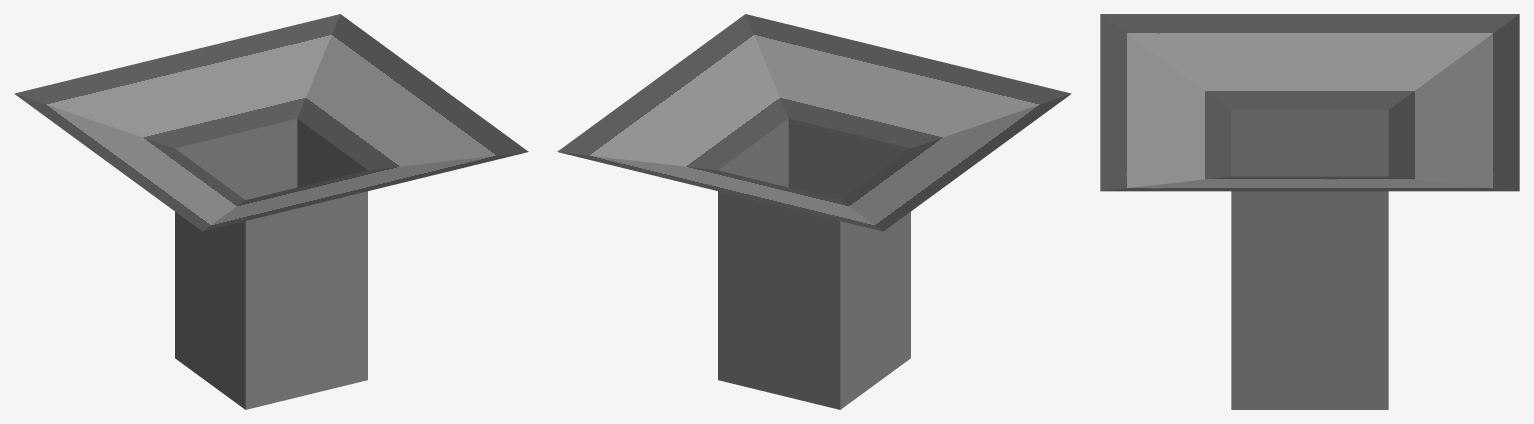
File: lightningrod-stand.obj
3 views of the same model, side by side, from view 1: azimuth 30°, elevation 25°; view 2: azimuth 150°, elevation 25°; view 3: azimuth 270°, elevation 25° (orthographic). The views are drawn at different scales.
Parts seen in each view (by area): view 1: lightningrod-stand_Cube; view 2: lightningrod-stand_Cube; view 3: lightningrod-stand_Cube.
Boxes of the visible parts, x1,y1,x2,y2 form: lightningrod-stand_Cube: (14, 14, 528, 409); lightningrod-stand_Cube: (557, 14, 1071, 409); lightningrod-stand_Cube: (1100, 14, 1519, 409).
Size of the model in its own units: 1 by 0.7212 by 1.
